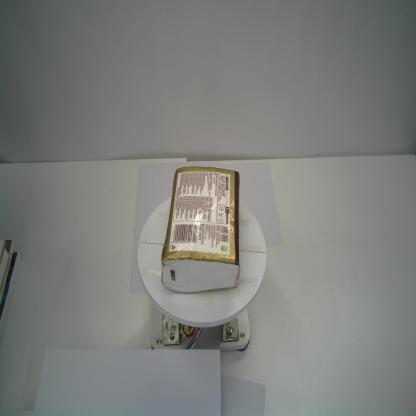Tissue: (160, 165, 242, 295)
